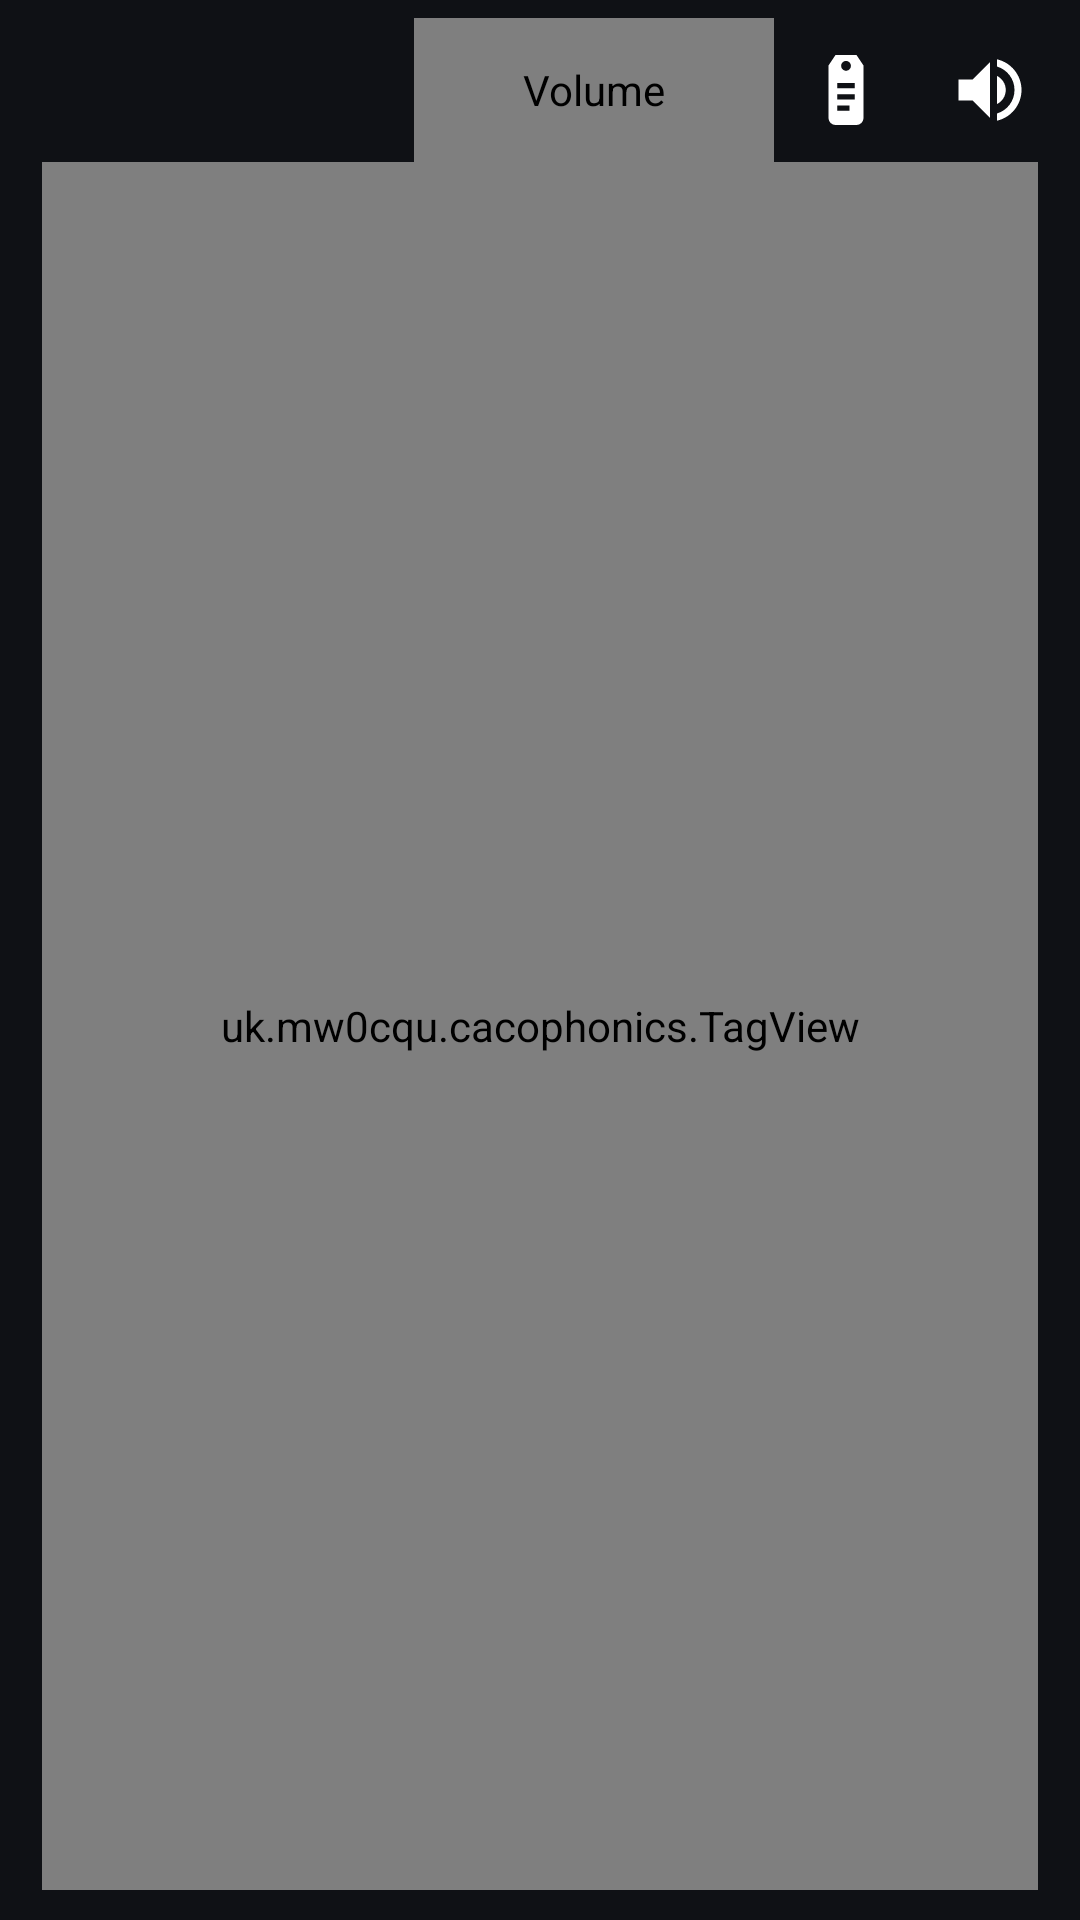

Screen size 1080*1920. Icon name, then its center in pixels as [x,y]:
Lock out this tag: [846,90]
Mute: [990,90]
